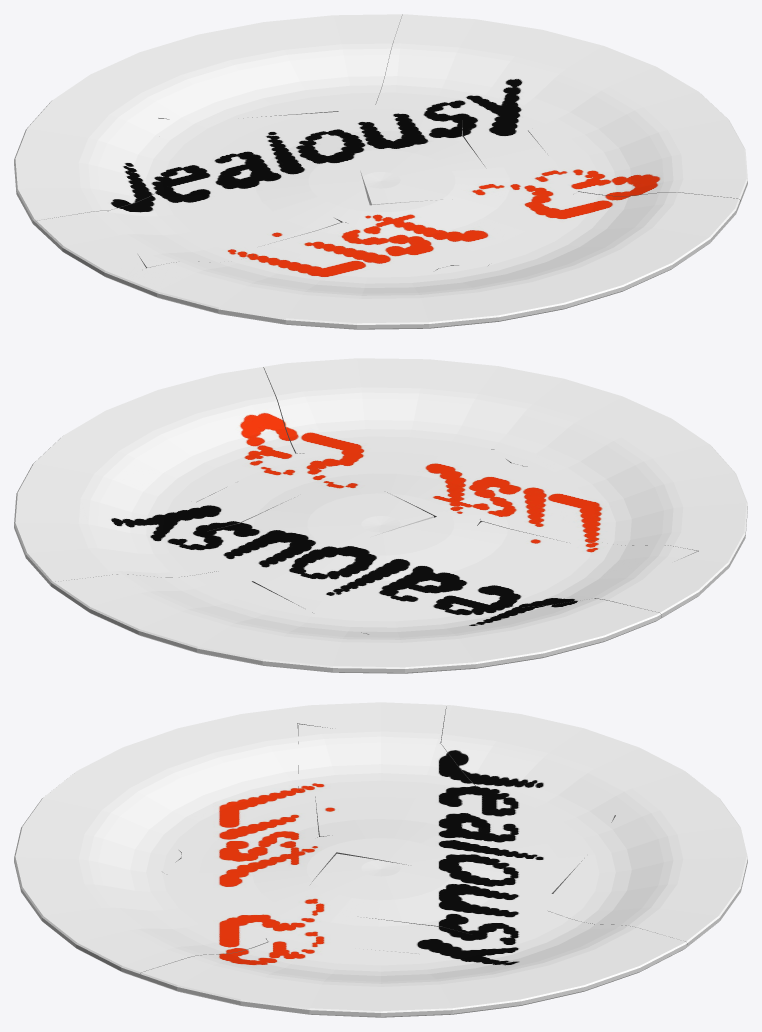
The model's file is platey.gltf.
3 views of the same model, one above another, from view 1: azimuth 30°, elevation 25°; view 2: azimuth 150°, elevation 25°; view 3: azimuth 270°, elevation 25° (orthographic).
Parts seen in each view (by area): view 1: 04, 14, 05, 07, 01, 15, 03, 13, 08, 02, 06, 12 (+5 smaller); view 2: 07, 05, 04, 14, 01, 15, 08, 13, 02, 03, 06, 12 (+5 smaller); view 3: 04, 07, 01, 14, 05, 15, 02, 08, 11, 03, 13, 06 (+5 smaller).
Boxes of the visible parts, left/top/right/bottom form: 04: left=71, top=14, right=402, bottom=120; 14: left=376, top=14, right=658, bottom=130; 05: left=528, top=68, right=747, bottom=202; 07: left=487, top=192, right=740, bottom=310; 01: left=14, top=87, right=160, bottom=225; 15: left=157, top=111, right=369, bottom=222; 03: left=344, top=193, right=573, bottom=266; 13: left=157, top=129, right=340, bottom=247; 08: left=337, top=265, right=556, bottom=329; 02: left=124, top=256, right=304, bottom=325; 06: left=338, top=105, right=462, bottom=205; 12: left=253, top=222, right=450, bottom=280; 07: left=263, top=358, right=571, bottom=453; 05: left=35, top=367, right=295, bottom=502; 04: left=52, top=571, right=370, bottom=673; 14: left=14, top=461, right=220, bottom=587; 01: left=369, top=598, right=661, bottom=673; 15: left=251, top=516, right=480, bottom=634; 08: left=494, top=381, right=715, bottom=466; 13: left=385, top=521, right=570, bottom=632; 02: left=592, top=466, right=747, bottom=556; 03: left=303, top=449, right=511, bottom=520; 06: left=207, top=515, right=433, bottom=581; 12: left=480, top=463, right=620, bottom=543; 04: left=547, top=784, right=747, bottom=946; 07: left=14, top=852, right=267, bottom=978; 01: left=440, top=705, right=700, bottom=816; 14: left=419, top=910, right=687, bottom=1014; 05: left=140, top=941, right=447, bottom=1017; 15: left=318, top=814, right=614, bottom=894; 02: left=112, top=708, right=298, bottom=793; 08: left=15, top=765, right=180, bottom=871; 11: left=297, top=724, right=475, bottom=796; 03: left=162, top=837, right=336, bottom=939; 13: left=315, top=787, right=596, bottom=836; 06: left=336, top=853, right=552, bottom=934.
Size of the model in its own units: 0.2481 by 0.00894 by 0.2481.
3 materials, 1 textured.
